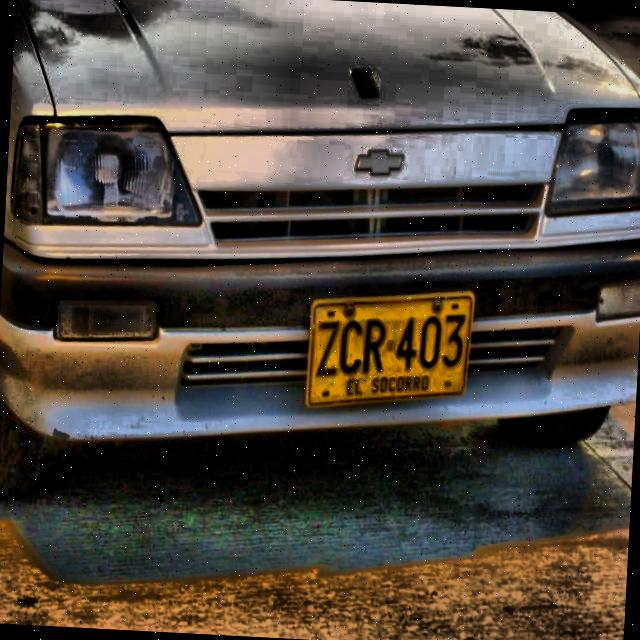0: (417, 314, 445, 371)
3: (440, 311, 468, 371)
4: (394, 315, 419, 372)
C: (338, 317, 365, 377)
R: (362, 316, 389, 377)
Z: (313, 317, 341, 379)
